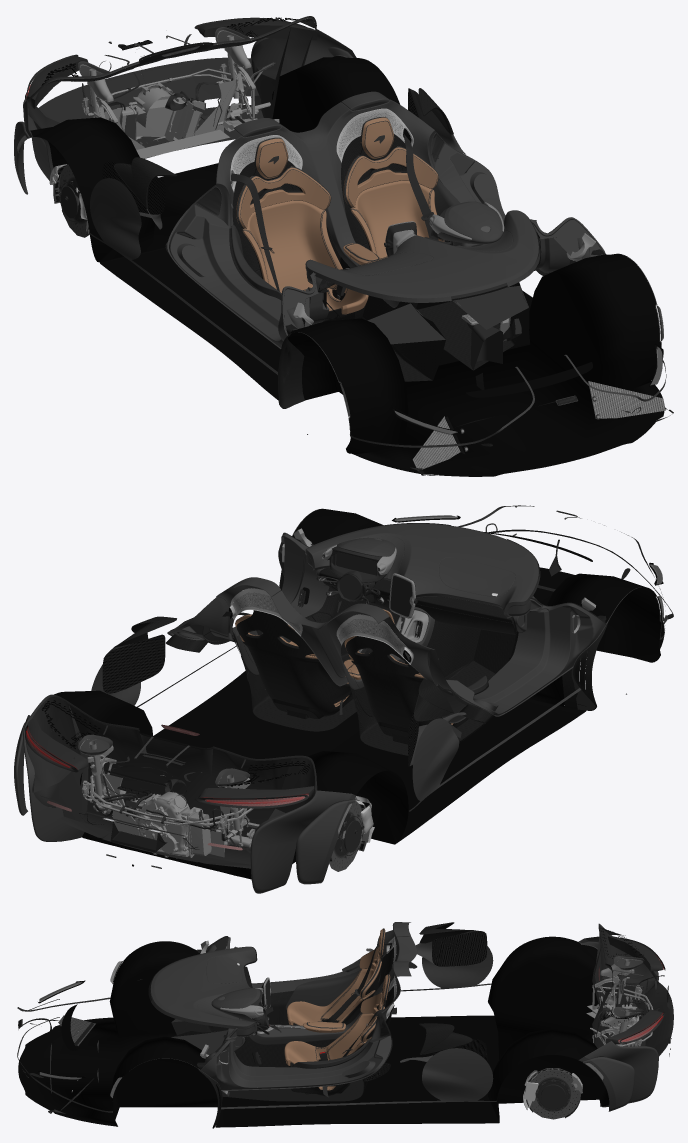
The model's file is elva-2021.glb.
3 renders of one model, top to bottom at view 1: azimuth 30°, elevation 25°; view 2: azimuth 150°, elevation 25°; view 3: azimuth 270°, elevation 25°, orthographic. The views are drawn at different scales.
Visible parts, largest first — view 1: body:Kit0_Paint_Geo_lodABody_lodA_McLaren_Elva_2021Paint_Ma.; view 2: body:Kit0_Paint_Geo_lodABody_lodA_McLaren_Elva_2021Paint_Ma.; view 3: body:Kit0_Paint_Geo_lodABody_lodA_McLaren_Elva_2021Paint_Ma..
Part boxes in pixels (bbox=[...]): body:Kit0_Paint_Geo_lodABody_lodA_McLaren_Elva_2021Paint_Ma.: bbox=[14, 16, 673, 476]; body:Kit0_Paint_Geo_lodABody_lodA_McLaren_Elva_2021Paint_Ma.: bbox=[14, 505, 673, 893]; body:Kit0_Paint_Geo_lodABody_lodA_McLaren_Elva_2021Paint_Ma.: bbox=[17, 922, 673, 1128].
Size of the model in its own units: 0.0193 by 0.00979 by 0.0451.
16 materials, 10 textured.
